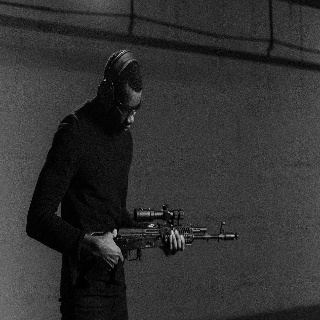rifle: (78, 204, 241, 265)
